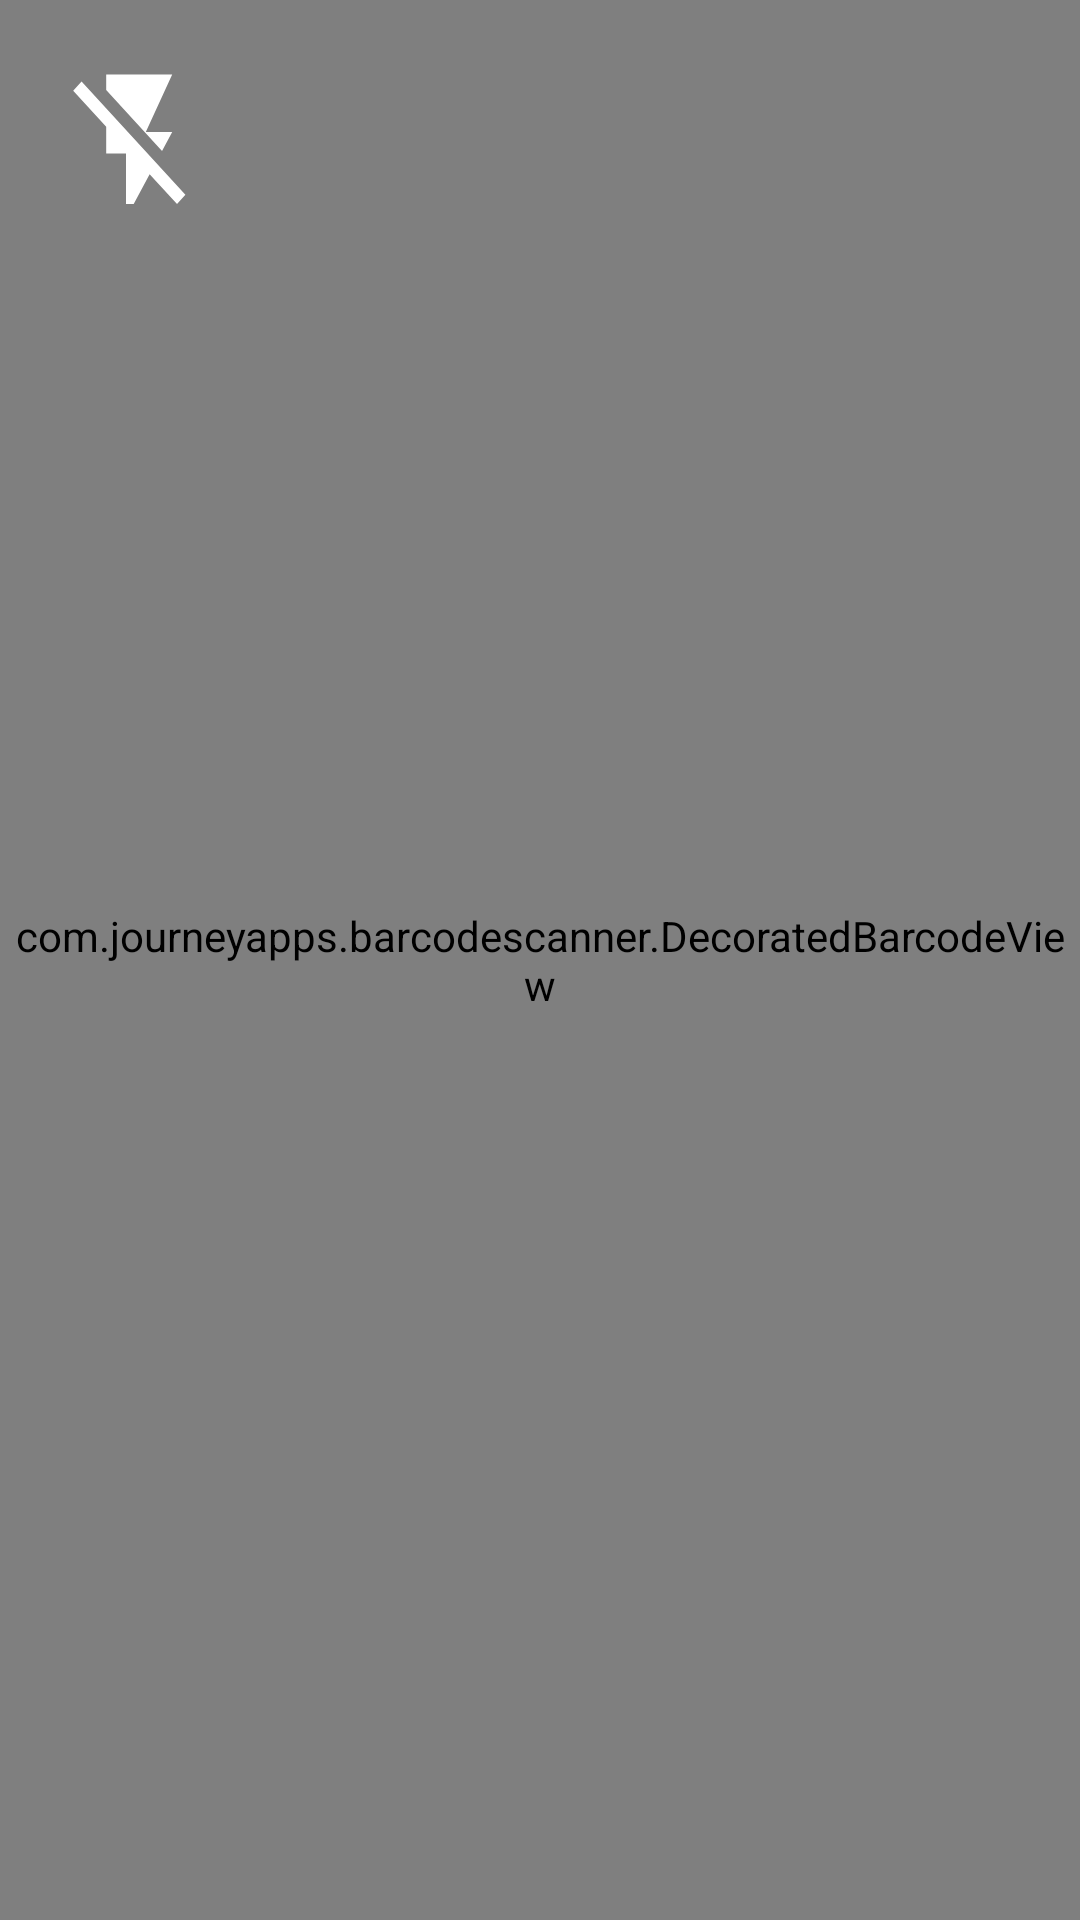

Icons on this 1080px x 1920px Android screen, each with the point to tap as [x,y]:
flash off: [129,139]
